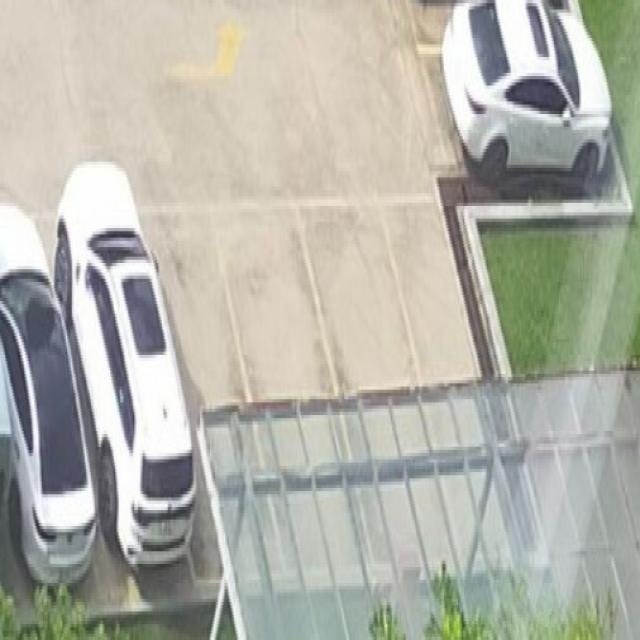car: (55, 163, 196, 565), (0, 204, 96, 584), (441, 0, 611, 185)
freeslot: (285, 178, 470, 583), (199, 183, 384, 583), (123, 173, 296, 598), (368, 176, 533, 580)
